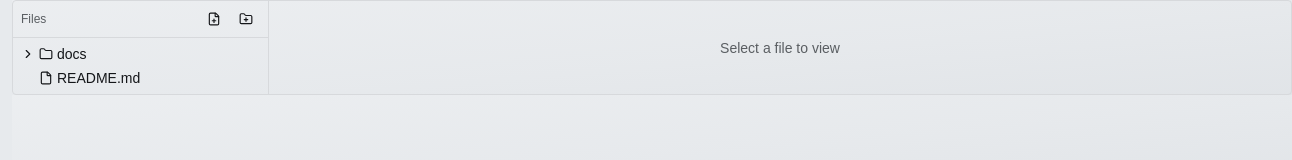
Test: renders the root listing and lazily expands a folder
The width and height of the screenshot is (1292, 160).
Expected: the text "README.md" is shown, [57,68,140,88]
Expected: the text "docs" is shown, [57,44,87,64]
Click the button "docs": [116, 54] box [13,42,220,66]
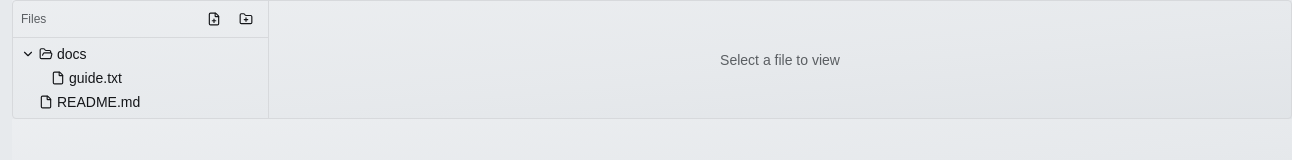
Now the text "guide.txt" is shown, box [69,68,122,88]
